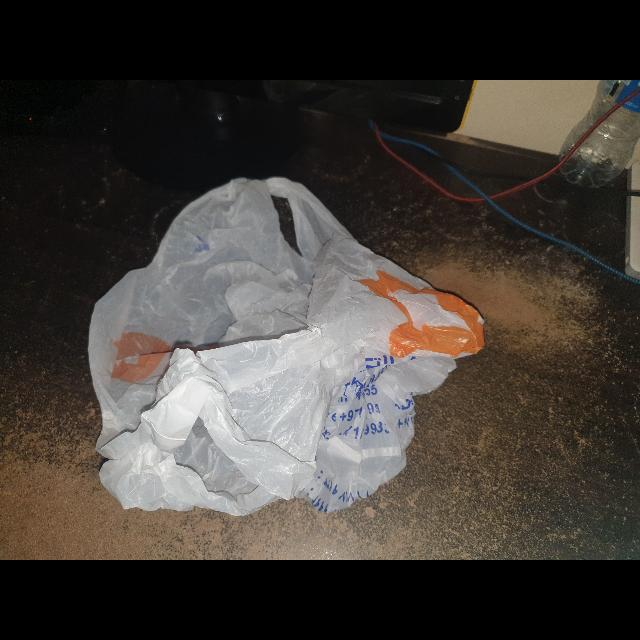plastic_bag: (80, 166, 492, 524)
